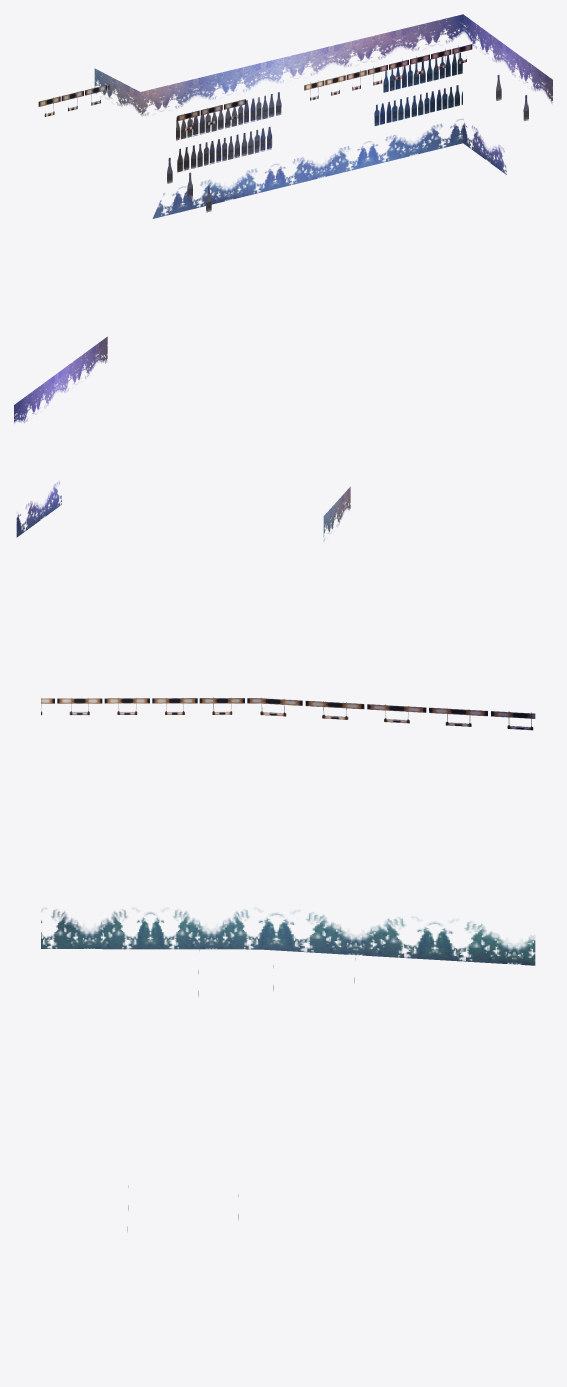
File: bar2.glb
3 renders of one model, top to bottom at view 1: azimuth 30°, elevation 25°; view 2: azimuth 150°, elevation 25°; view 3: azimuth 270°, elevation 25°, orthographic. The views are drawn at different scales.
Parts seen in each view (by area): view 1: Plane1; view 2: Plane1; view 3: Plane1.
Boxes of the visible parts, left/top/right/bottom form: Plane1: left=38, top=14, right=552, bottom=218; Plane1: left=14, top=336, right=350, bottom=541; Plane1: left=41, top=697, right=535, bottom=1231.
Size of what is drawn, in the model's own units: 13.84 by 3.97 by 7.02.
4 materials, 4 textured.
